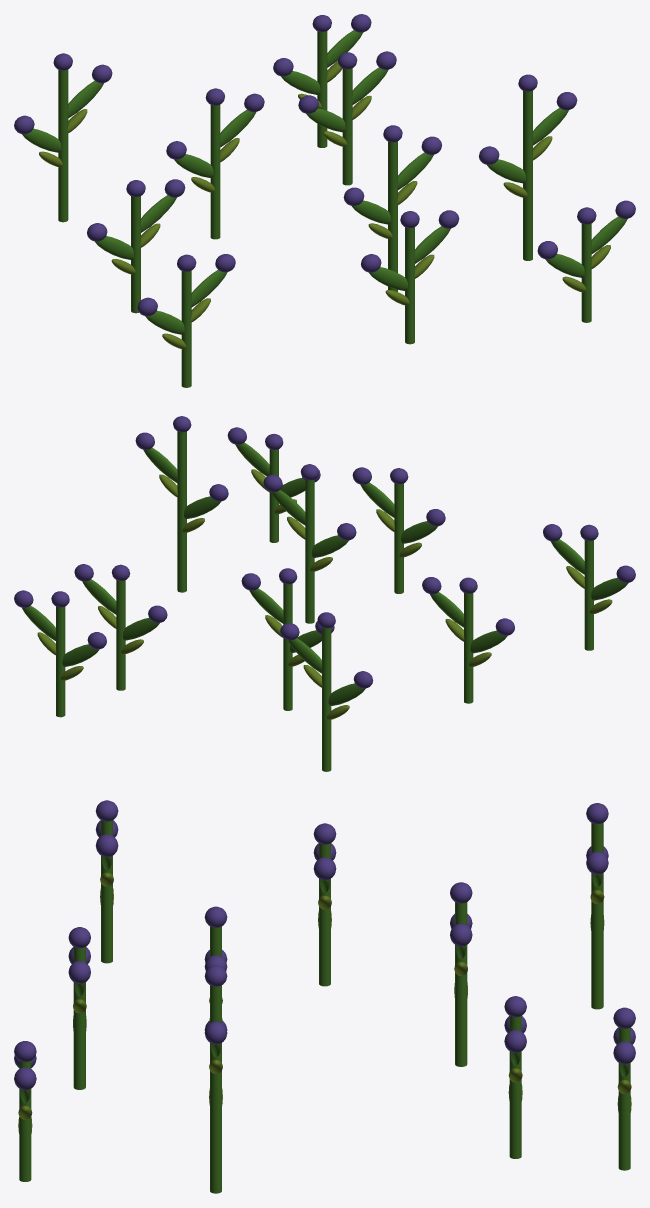
File: CMU3DRMCGrassc3.glb
3 views of the same model, one above another, from view 1: azimuth 30°, elevation 25°; view 2: azimuth 150°, elevation 25°; view 3: azimuth 270°, elevation 25° (orthographic). The views are drawn at different scales.
Visible parts, largest first — view 1: flower stalk 8, flower stalk 0, flower stalk 1, flower stalk 7, flower stalk 5, flower stalk 3, flower stalk 6, flower stalk 4, flower stalk 9, flower stalk 2, flower stalk 5 diagonal branch 1, flower stalk 9 diagonal branch 1 (+18 smaller); view 2: flower stalk 8, flower stalk 7, flower stalk 0, flower stalk 5, flower stalk 1, flower stalk 6, flower stalk 3, flower stalk 4, flower stalk 2, flower stalk 9, flower stalk 7 diagonal branch 1, flower stalk 1 diagonal branch 1 (+9 smaller); view 3: flower stalk 8, flower stalk 0, flower stalk 1, flower stalk 6, flower stalk 3, flower stalk 2, flower stalk 4, flower stalk 5, flower stalk 9.
Part boxes in pixels (x1,y1,x2,y2): flower stalk 8: (523,90,532,260); flower stalk 0: (58,69,68,222); flower stalk 1: (210,104,220,239); flower stalk 7: (388,141,397,291); flower stalk 5: (181,270,191,387); flower stalk 3: (342,68,352,185); flower stalk 6: (405,227,414,344); flower stalk 4: (131,196,140,313); flower stalk 9: (581,223,591,322); flower stalk 2: (317,31,327,147); flower stalk 5 diagonal branch 1: (191,270,227,307); flower stalk 9 diagonal branch 1: (591,216,627,253); flower stalk 8: (177,431,186,592); flower stalk 7: (305,479,314,623); flower stalk 0: (322,627,331,771); flower stalk 5: (584,540,593,650); flower stalk 1: (283,583,292,710); flower stalk 6: (394,483,403,593); flower stalk 3: (116,580,125,690); flower stalk 4: (464,593,473,703); flower stalk 2: (56,606,65,717); flower stalk 9: (269,449,278,542); flower stalk 7 diagonal branch 1: (271,490,305,525); flower stalk 1 diagonal branch 1: (249,588,283,623); flower stalk 8: (210,985,221,1193); flower stalk 0: (591,823,603,1009); flower stalk 1: (455,902,467,1066); flower stalk 6: (73,947,85,1089); flower stalk 3: (509,1016,521,1158); flower stalk 2: (618,1027,630,1170); flower stalk 4: (319,843,330,986); flower stalk 5: (101,820,112,963); flower stalk 9: (19,1061,31,1181).
Bounding box in the file's own units: 0.781 × 0.284 × 0.7135.
